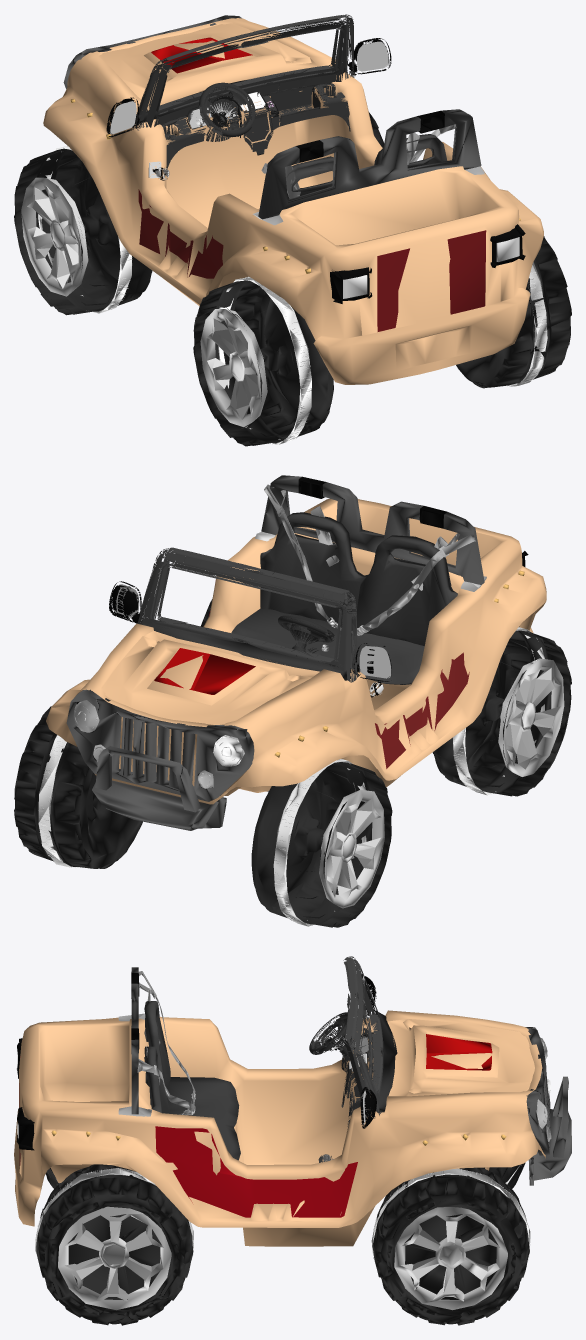
The model's file is safar.glb.
3 renders of one model, top to bottom at view 1: azimuth 30°, elevation 25°; view 2: azimuth 150°, elevation 25°; view 3: azimuth 270°, elevation 25°, orthographic. The views are drawn at different scales.
Parts seen in each view (by area): view 1: Plane001; view 2: Plane001; view 3: Plane001.
Part boxes in pixels (left/top/right/bottom): Plane001: left=14, top=14, right=571, bottom=446; Plane001: left=14, top=475, right=571, bottom=927; Plane001: left=14, top=956, right=571, bottom=1325.
Bounding box in the file's own units: 2.89 × 2.56 × 4.89.
